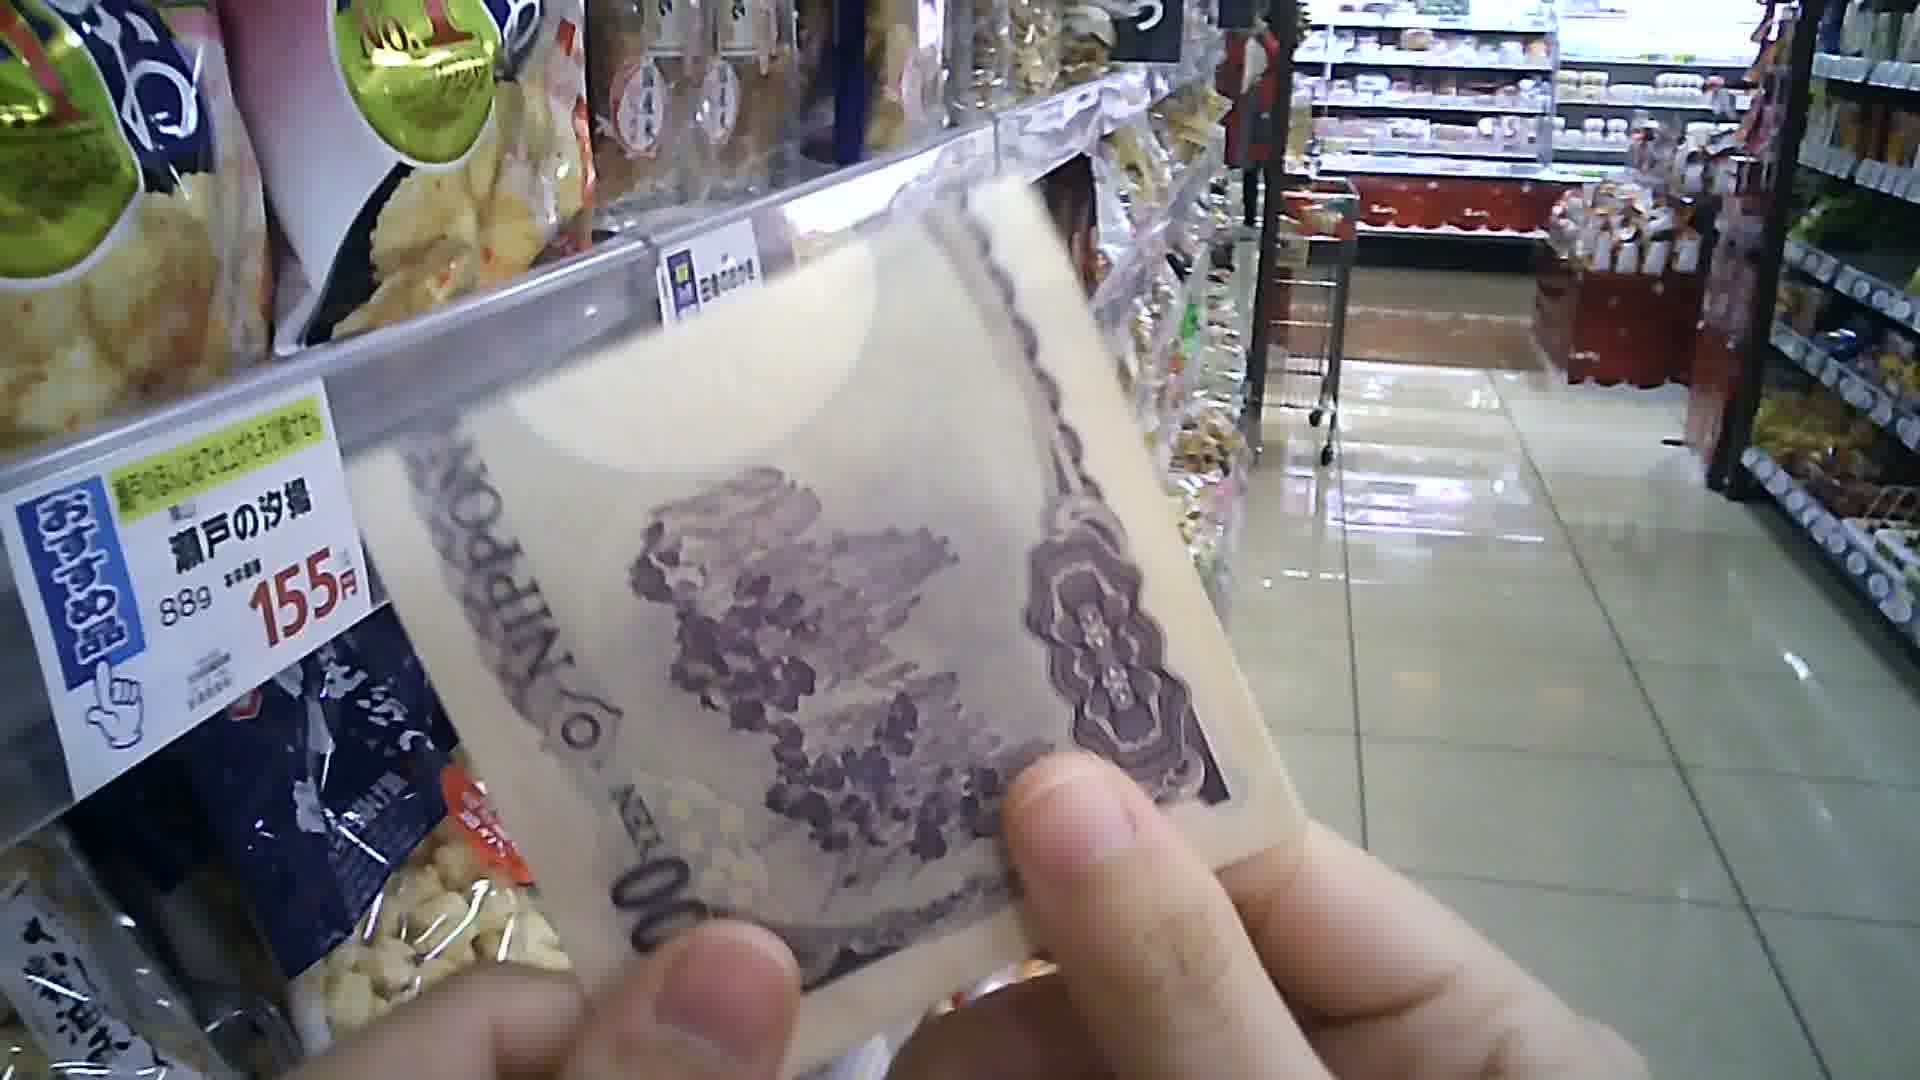5,000 Yen: (342, 178, 1309, 1077)
